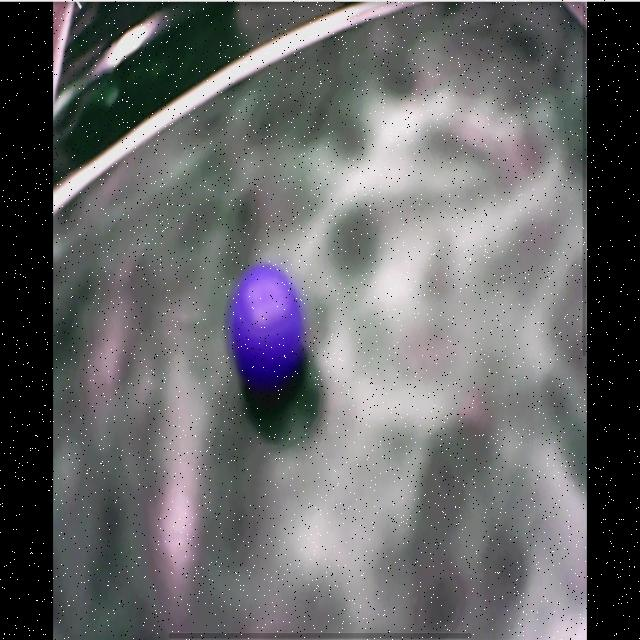ball: (232, 267, 301, 382)
